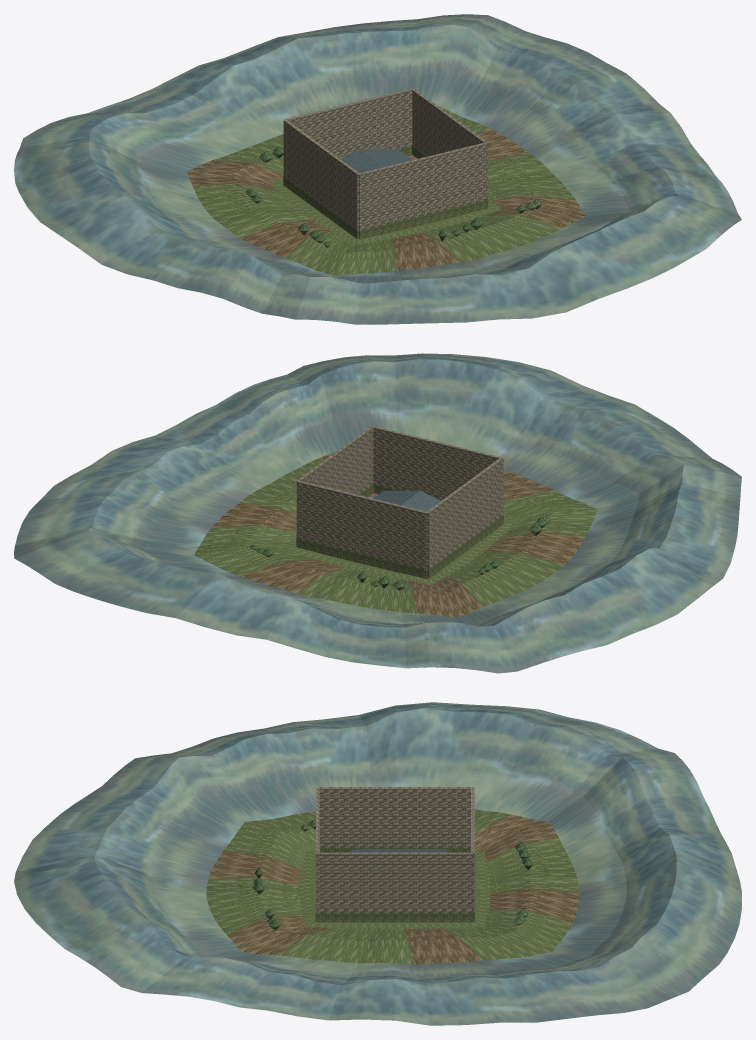
The model's file is SillwaterOffice.fbx.
3 views of the same model, one above another, from view 1: azimuth 30°, elevation 25°; view 2: azimuth 150°, elevation 25°; view 3: azimuth 270°, elevation 25° (orthographic). The views are drawn at different scales.
Parts seen in each view (by area): view 1: Surroundings, C_Solids, Rim, Set; view 2: Surroundings, C_Solids, Rim, Set; view 3: Surroundings, C_Solids, Rim.
Part boxes in pixels (x1,y1,x2,y2): Surroundings: [14, 14, 741, 324]; C_Solids: [283, 88, 487, 230]; Rim: [283, 146, 488, 239]; Set: [341, 149, 411, 172]; Surroundings: [14, 353, 741, 673]; C_Solids: [296, 426, 503, 569]; Rim: [296, 484, 503, 578]; Set: [373, 490, 440, 511]; Surroundings: [14, 702, 741, 1025]; C_Solids: [316, 787, 474, 912]; Rim: [315, 846, 474, 922].
Bounding box in the file's own units: 19337 × 2200 × 19240.
